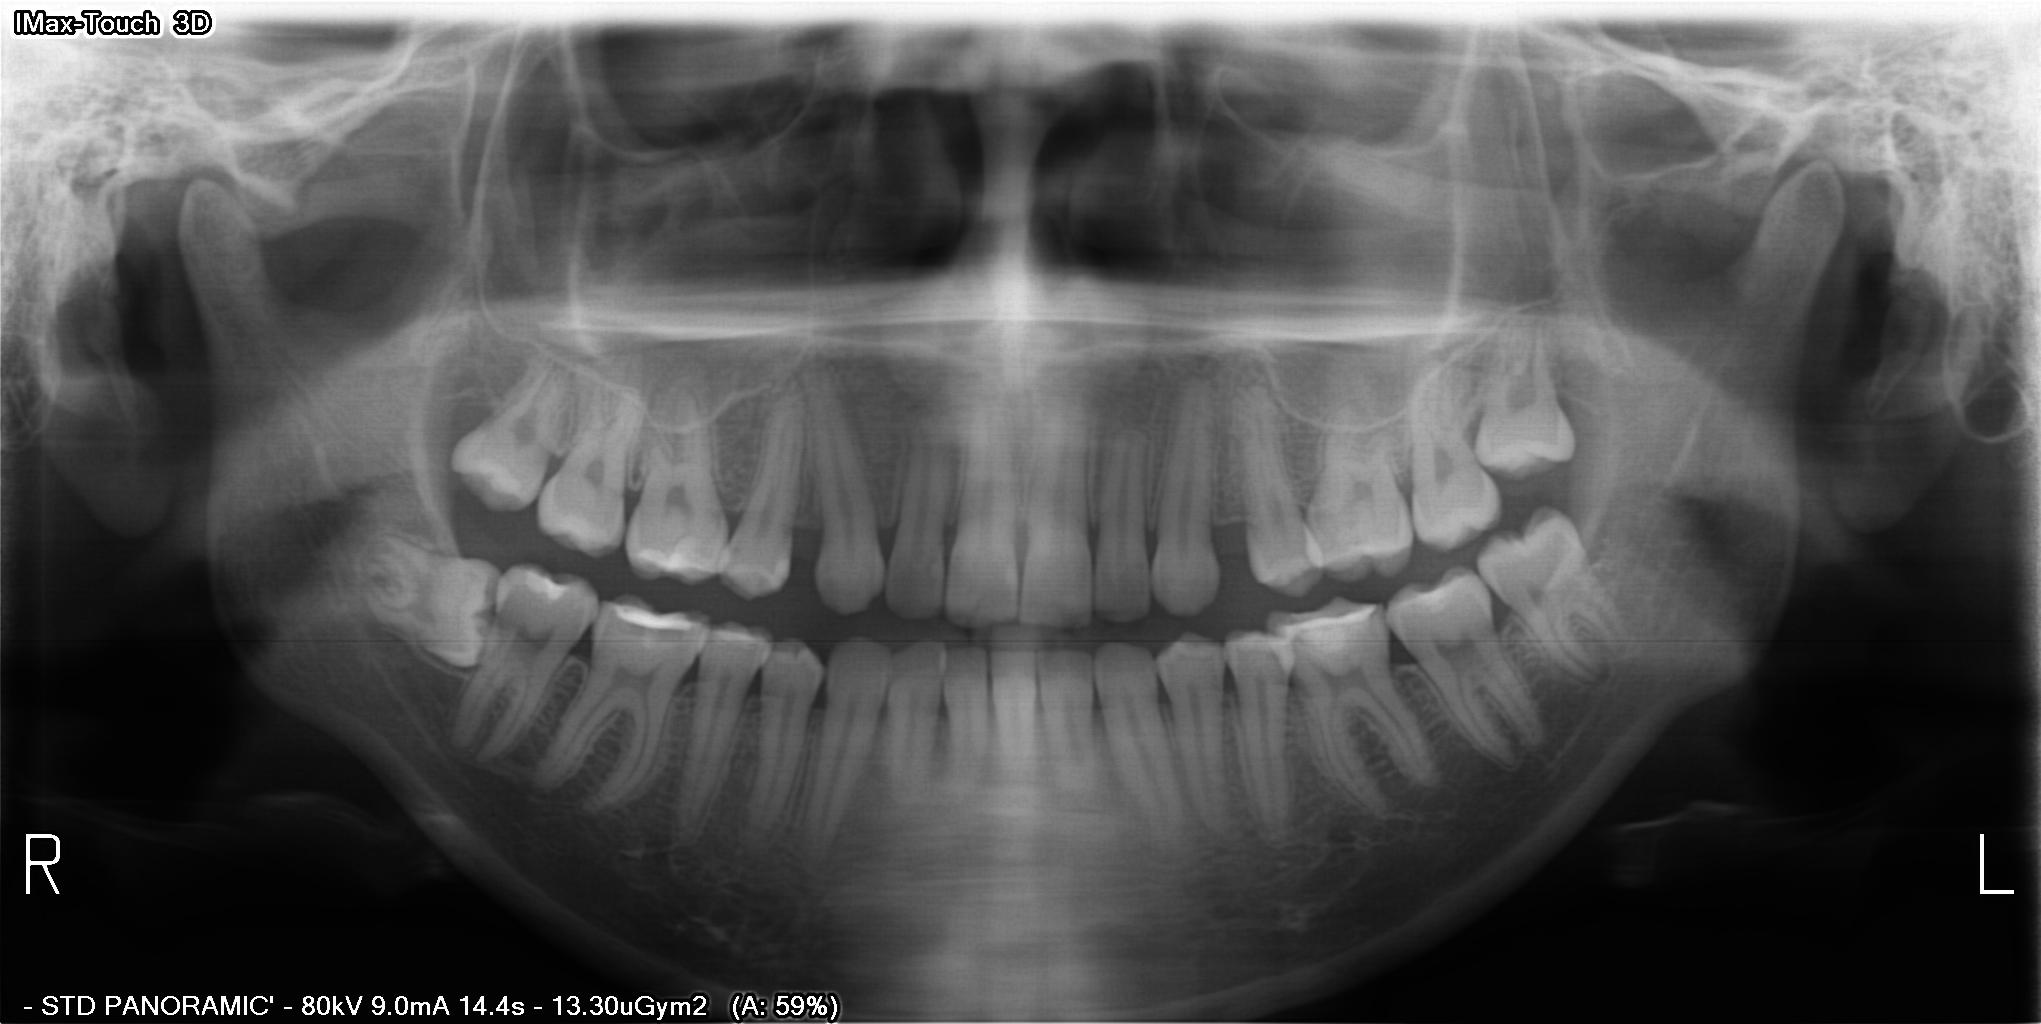Çürük: (602, 593, 705, 645)
